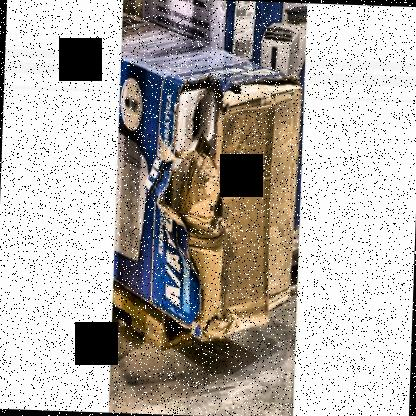no defect parcel: (121, 54, 271, 374)
